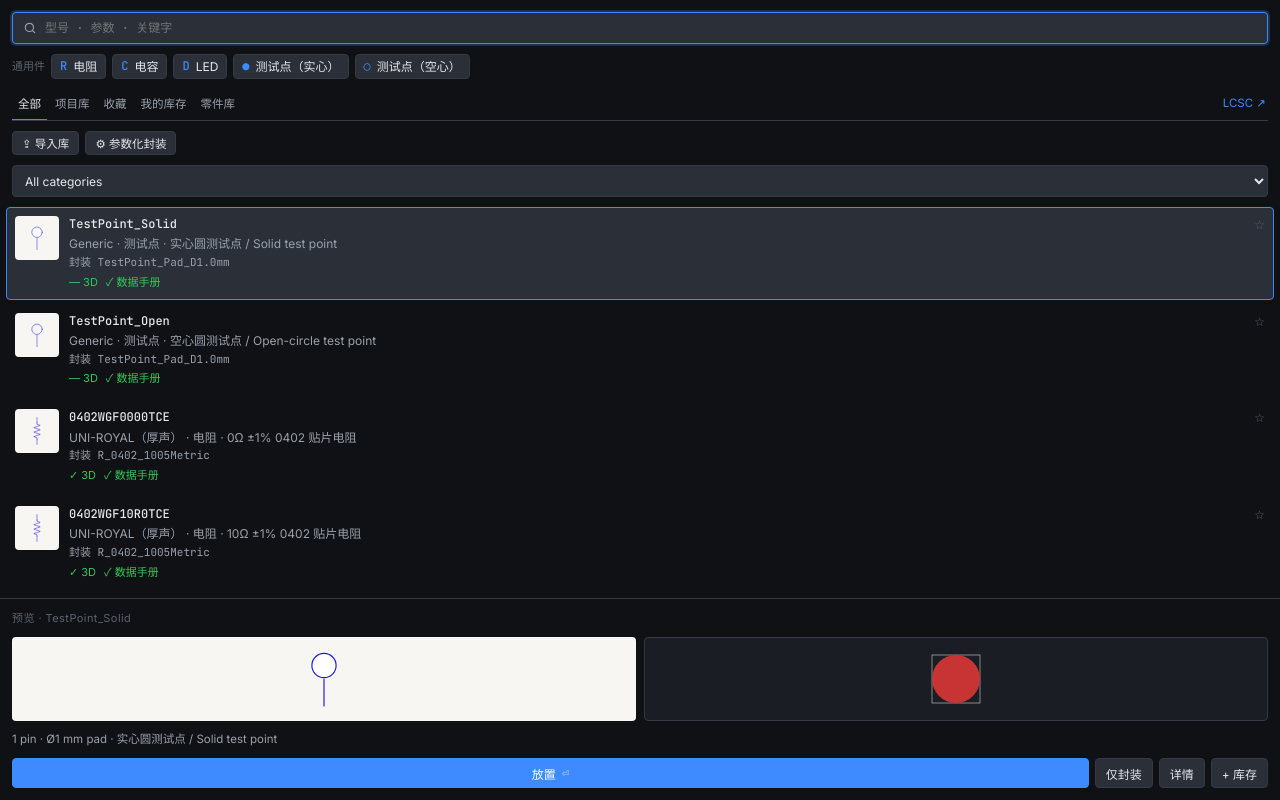
Test case: sch keeps categories in a collapsed picker and updates the part list on selection
The width and height of the screenshot is (1280, 800).
expect the text "0402WGF0000TCE" is shown: met, box [69,409,170,427]
Select "Capacitors" in the dropdown named "All categories": [640, 181] box [12,165,1268,197]
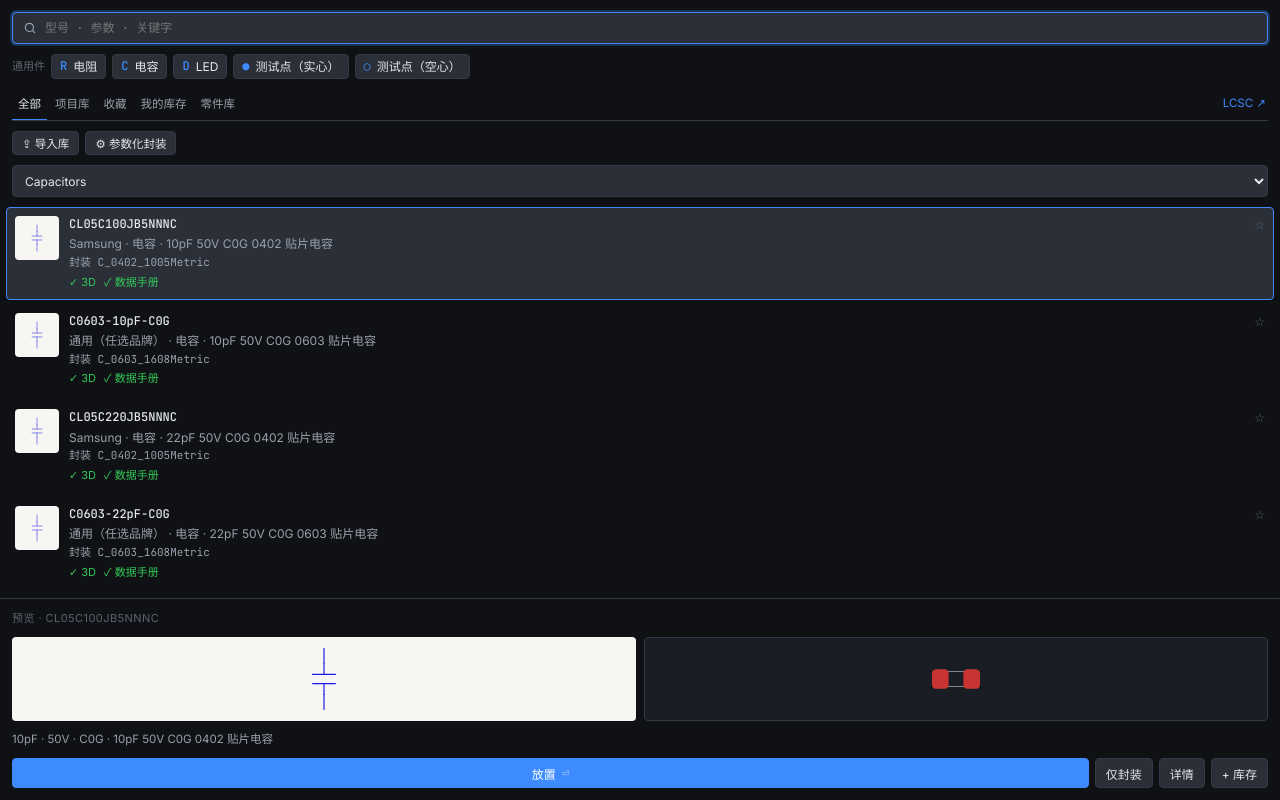
expect the text "0402WGF0000TCE" is gone: met
expect the text "CL05C100JB5NNNC" is shown: met, box [69,216,177,234]
Select "All categories" in the dropdown named "All categories": [640, 181] box [12,165,1268,197]
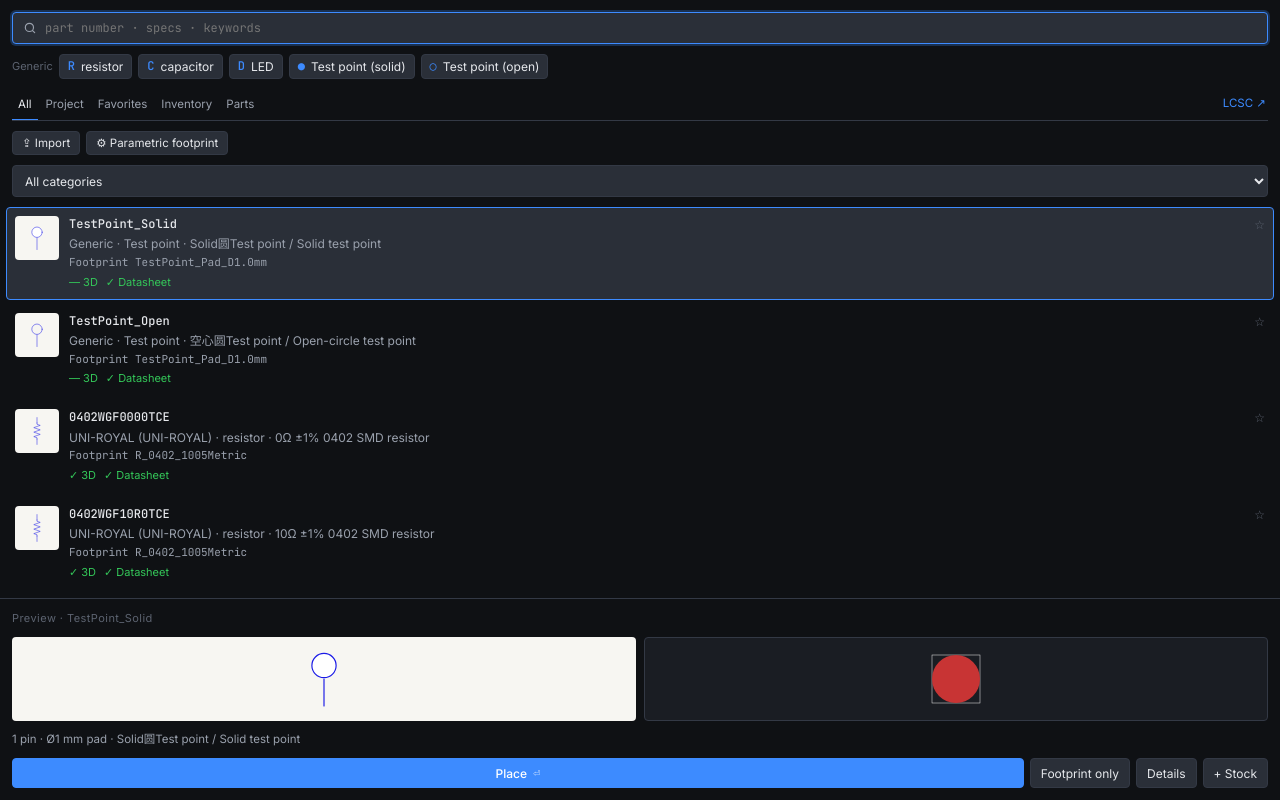
expect the text "0402WGF0000TCE" is shown: met, box [69,409,170,427]
